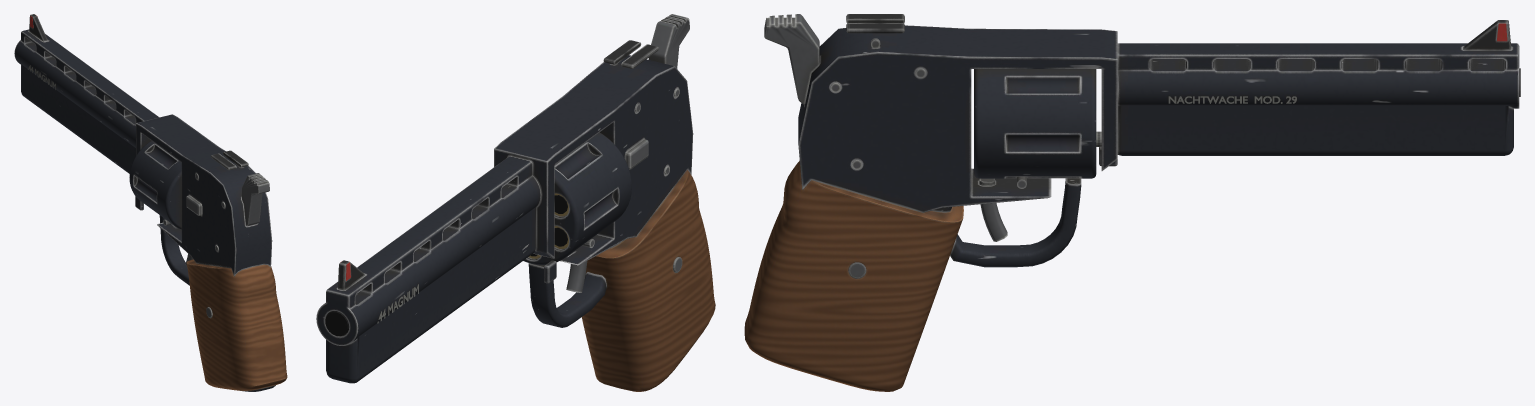
The model's file is revolver_built.glb.
The picture shows the model from 3 angles, left to right: view 1: azimuth 30°, elevation 25°; view 2: azimuth 150°, elevation 25°; view 3: azimuth 270°, elevation 25°; orthographic projection. The views are drawn at different scales.
Parts seen in each view (by area): view 1: Body; view 2: Body; view 3: Body.
Part boxes in pixels (bbox=[...]): Body: bbox=[14, 14, 287, 391]; Body: bbox=[316, 14, 715, 391]; Body: bbox=[744, 14, 1520, 391].
Bounding box in the file's own units: 0.045 × 0.1515 × 0.2917.
1 material, 1 textured.
